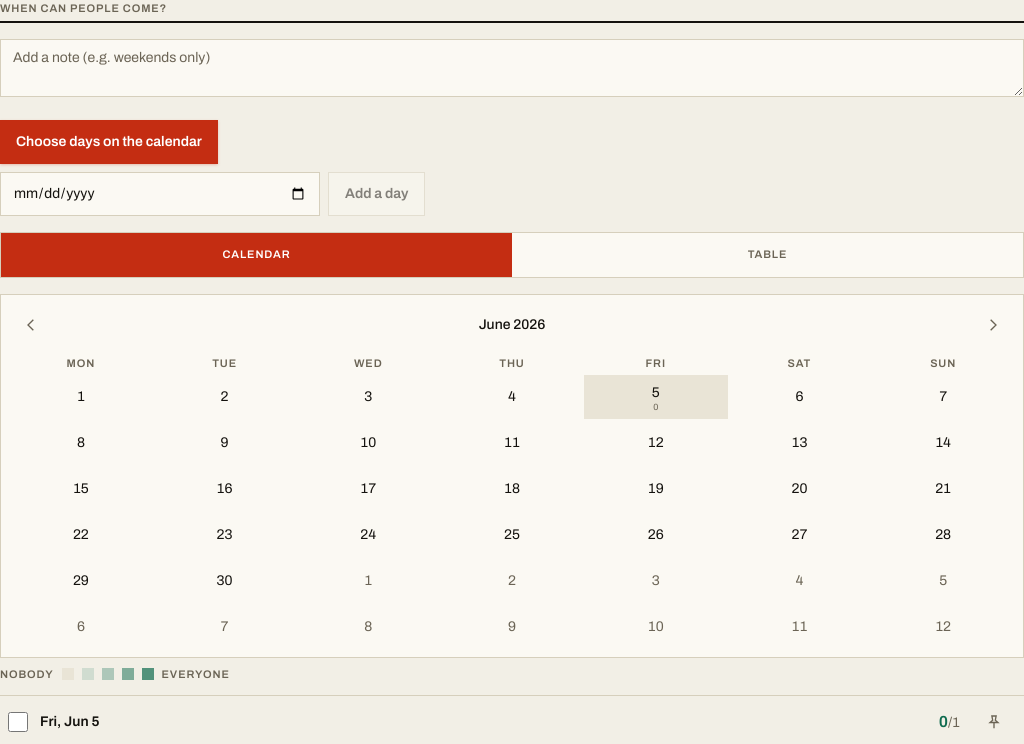
Scenario: AvailabilityTab › has a single save button, whichever view is showing
What coordinates should you click on to do the following:
click the button "Table"
I would click on:
 (768, 254)
Its box is [512,232,1023,276].
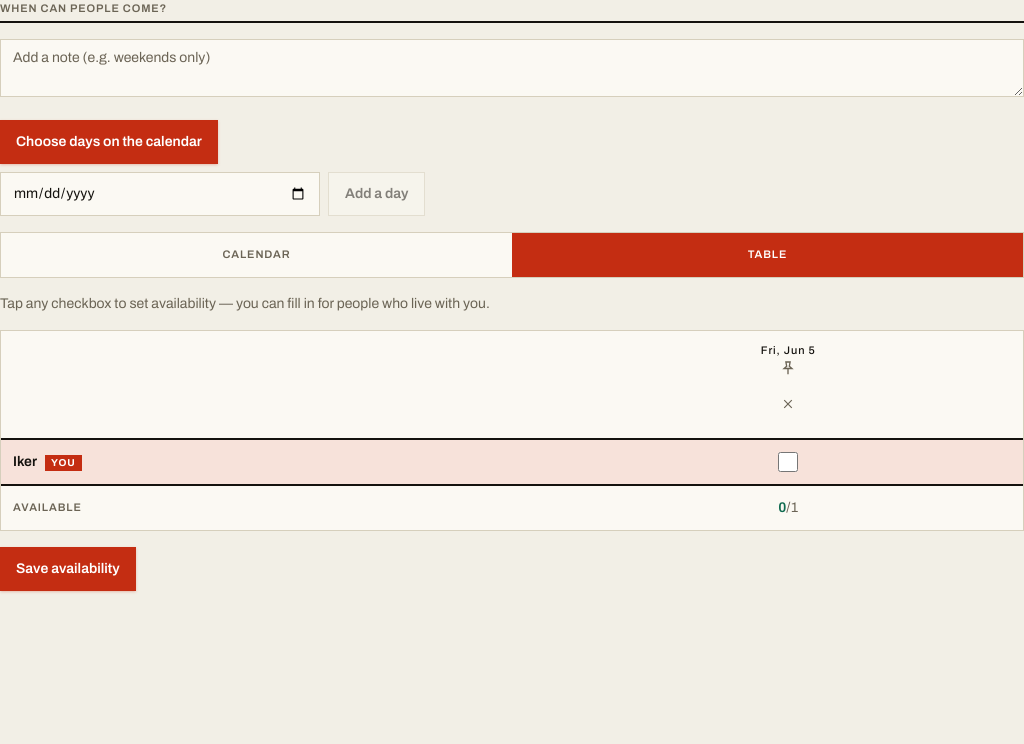
Expected: the number of buttons "Save availability" is 1, [0,547,136,591]
